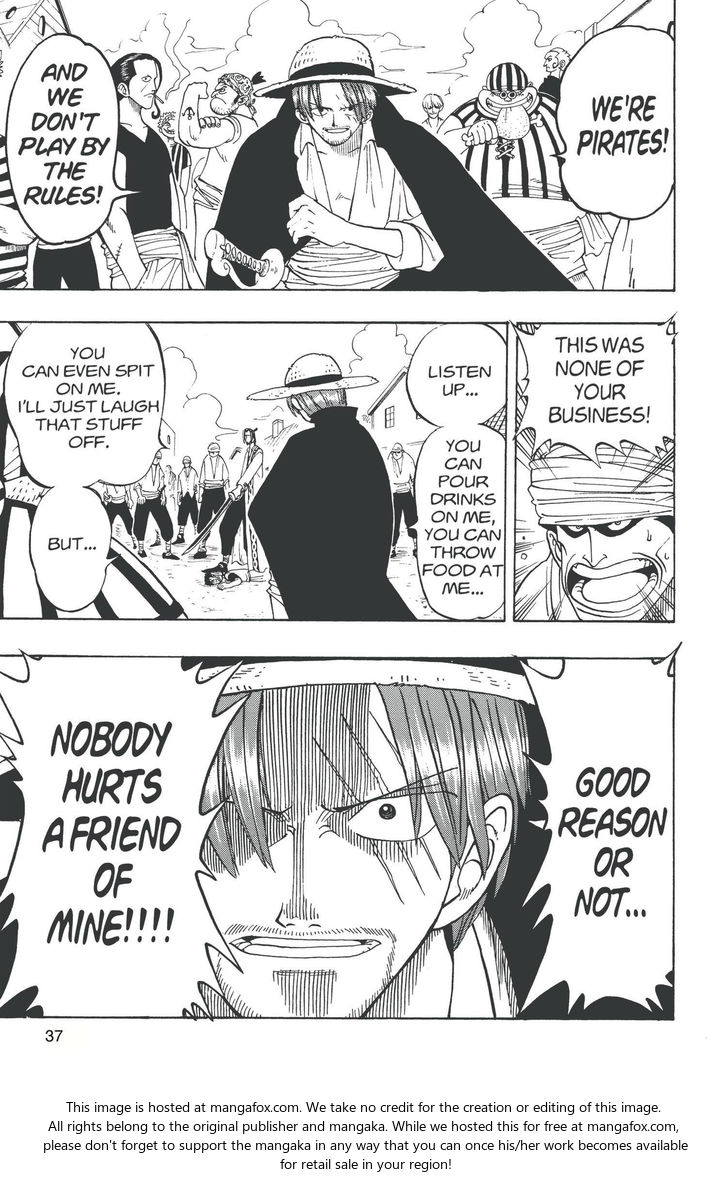bubble: (0, 649, 252, 1022), (518, 642, 682, 1016), (6, 33, 143, 244), (4, 321, 170, 488), (510, 313, 678, 469), (551, 25, 675, 219), (406, 423, 506, 621), (29, 487, 121, 613), (406, 322, 507, 428)
